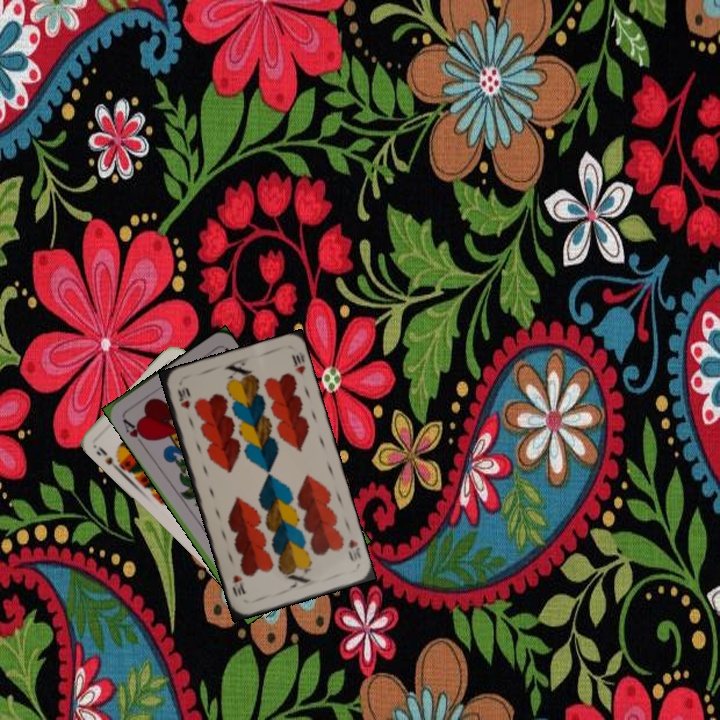H10: (173, 383, 193, 412), (344, 535, 364, 564)
HA: (118, 412, 150, 448)
S9: (90, 442, 125, 474)
